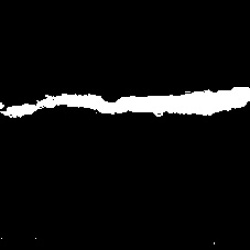crack: (1, 86, 249, 119)
